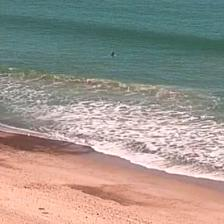surfer: (110, 52, 114, 56)
